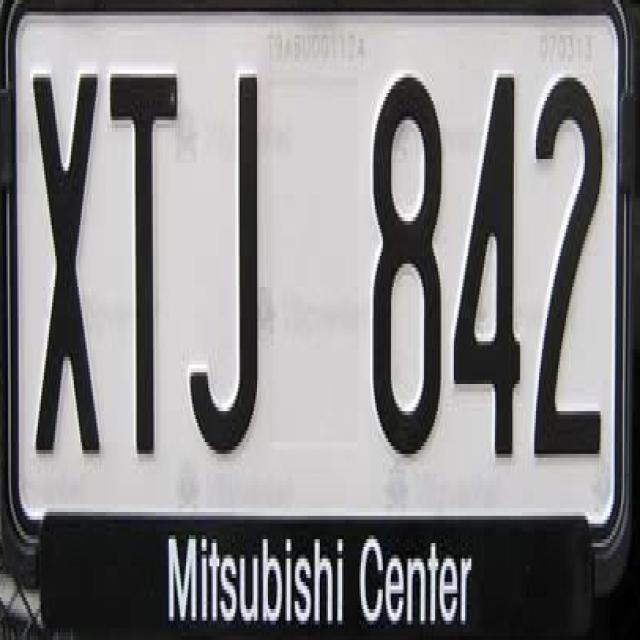Autre: (12, 20, 618, 502)
